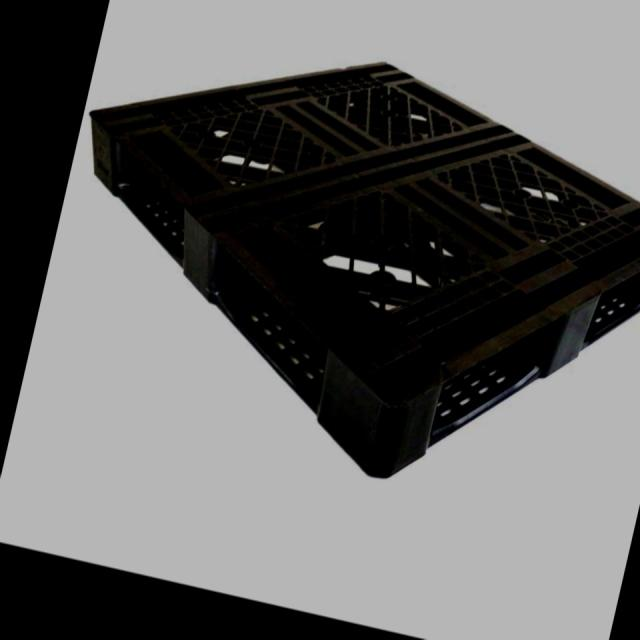non-igps: (85, 56, 640, 484)
